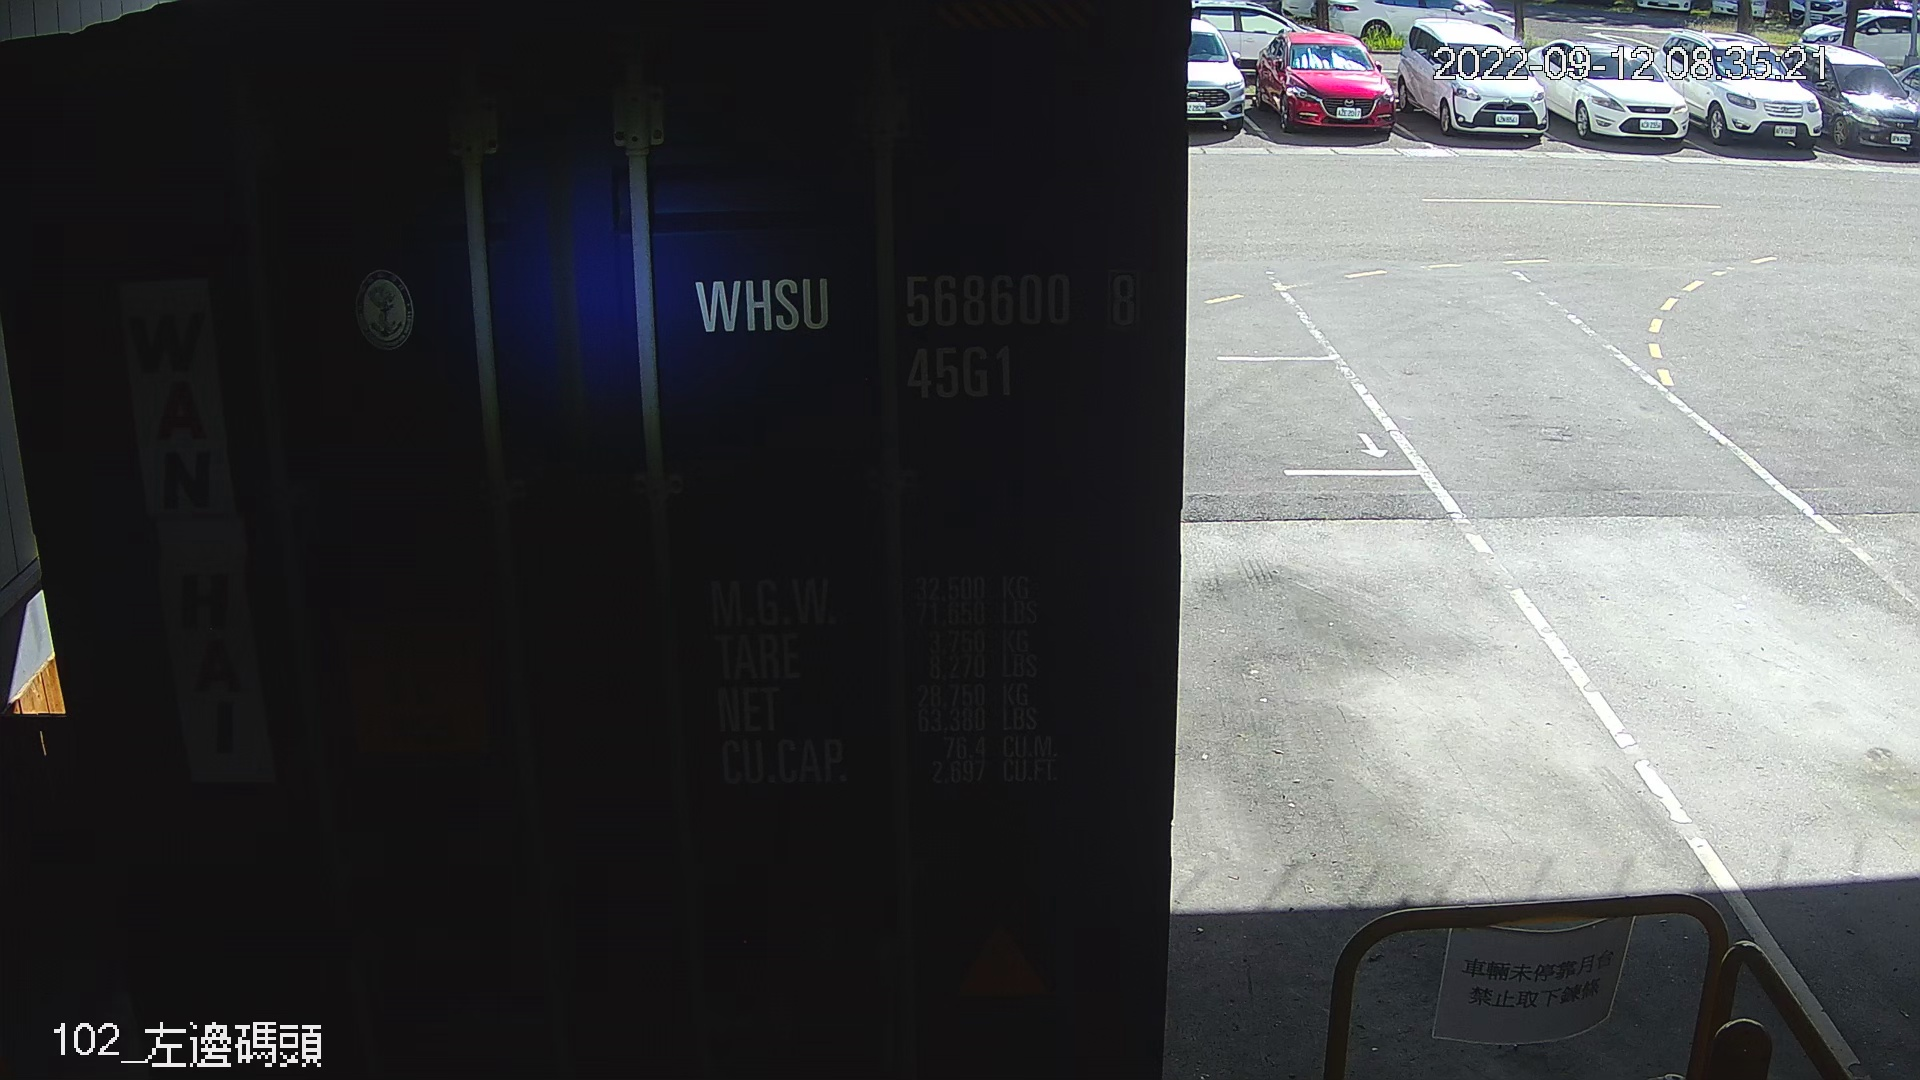container: (676, 252, 1156, 411)
